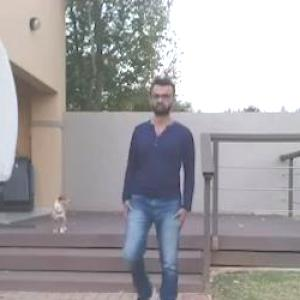follow: (132, 80, 193, 299)
